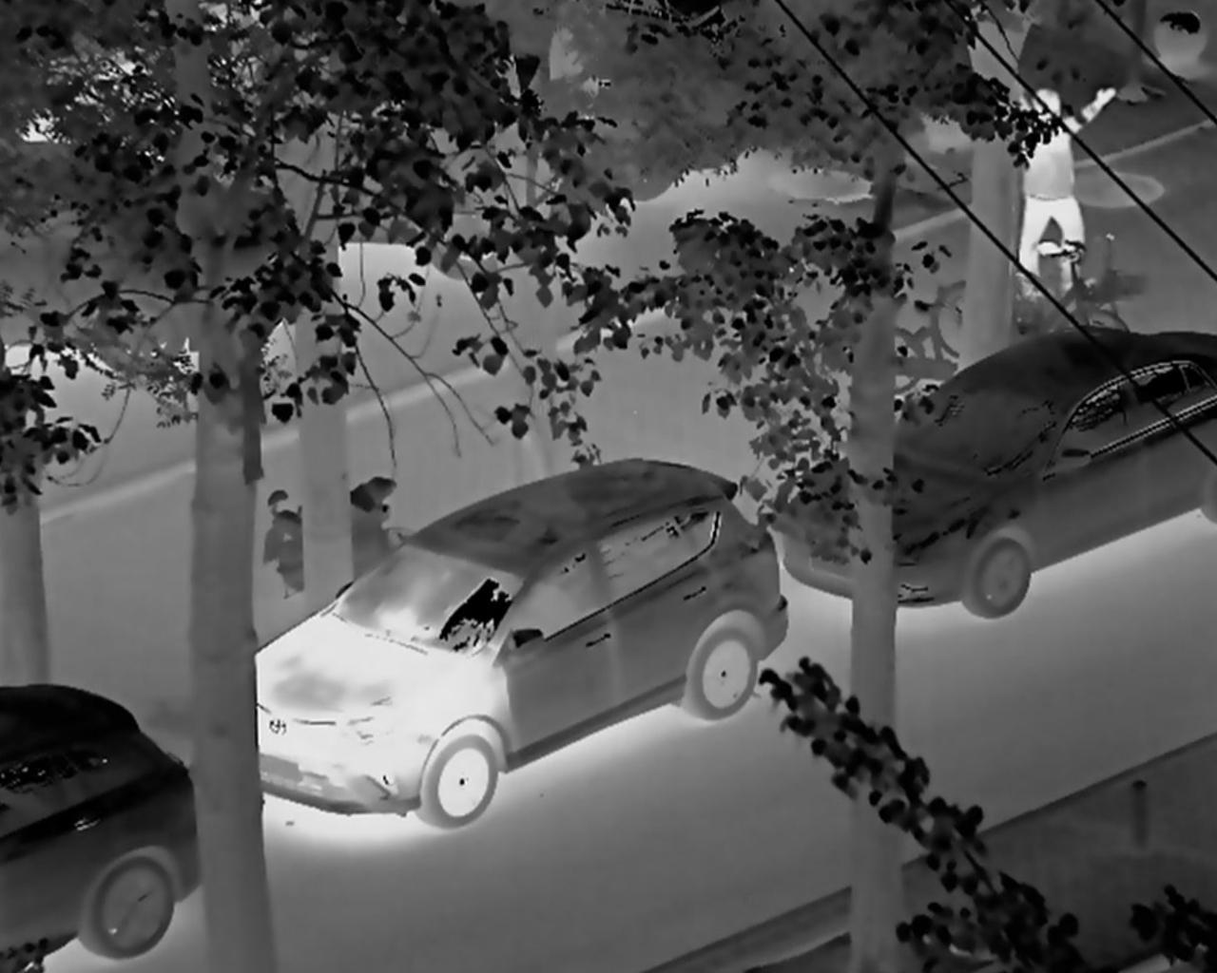person: (992, 86, 1118, 289)
